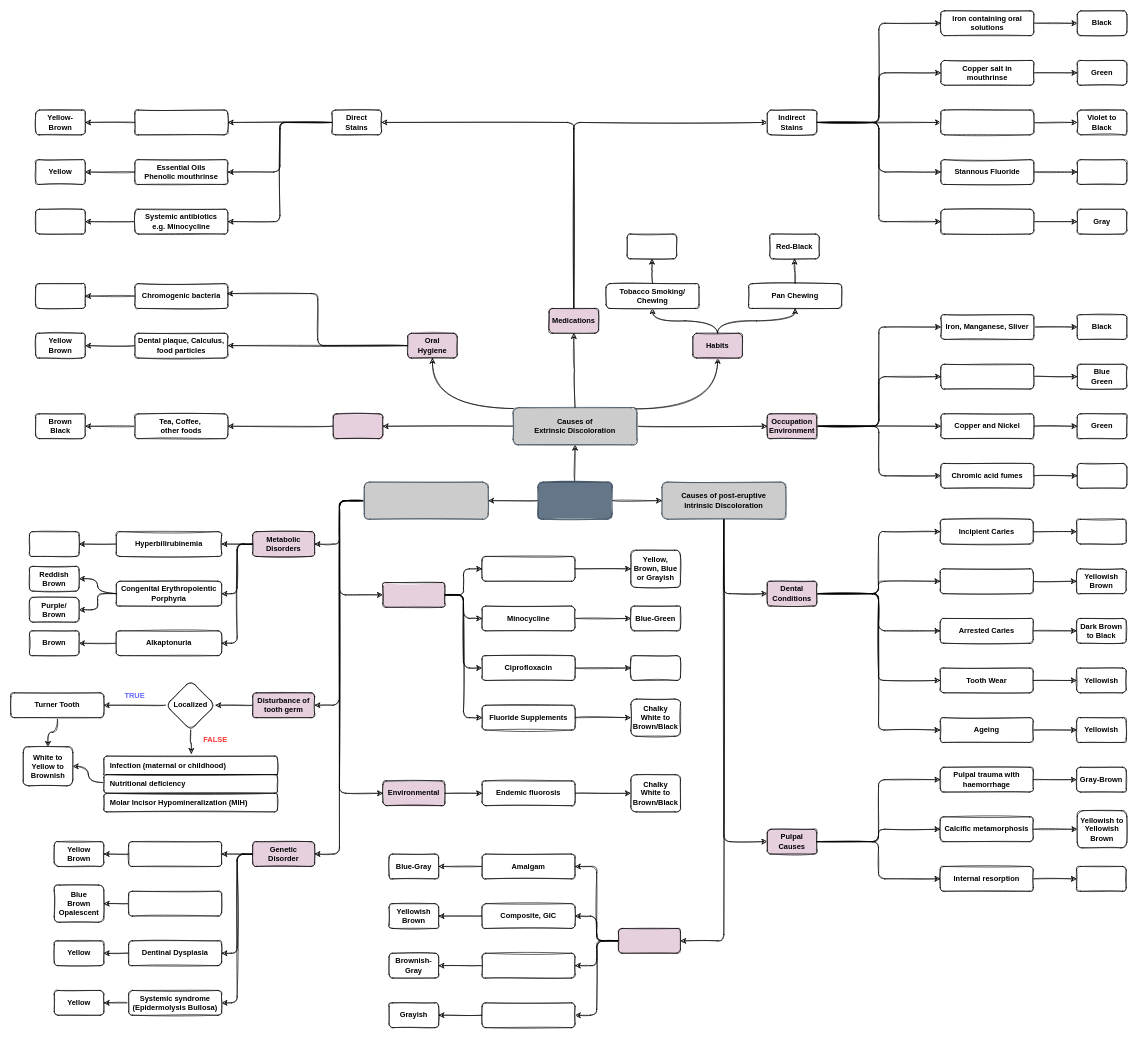
This 1138x1039 diagram has some shape labels left out. The centre of each missing label's shape, as x and y in pixels:
Active Caries: the point at 986,581
Amelogenesis Imperfecta: the point at 175,853
Brown/Black Green/Yellow: the point at 60,295
Cationic antiseptics e.g. chlorhexidine: the point at 181,122
Causes of pre-eruptive Intrinsic Discoloration: the point at 426,500
Chalky White: the point at 1101,531
Dark Brown Black: the point at 652,246
Deep Orange: the point at 1102,475
Dental Materials: the point at 649,940
Dentinogenesis Imperfecta: the point at 175,903
Diet: the point at 358,426
Golden Brown: the point at 1102,171
Green- Grey: the point at 60,221
Greenish: the point at 655,667
Intracanal medicaments e.g. Iodoform, Ledermix: the point at 528,965
Medication: the point at 413,594
Mercury and Lead dust: the point at 987,376
Obturating materials & sealers: the point at 528,1015
Pinkish: the point at 1101,878
Potassium Permanganate in mouthrinse: the point at 987,122
Silver Nitrate: the point at 987,221
Tetracycline: the point at 528,568
Tooth Discolorations: the point at 574,500
Yellow Green: the point at 54,543
